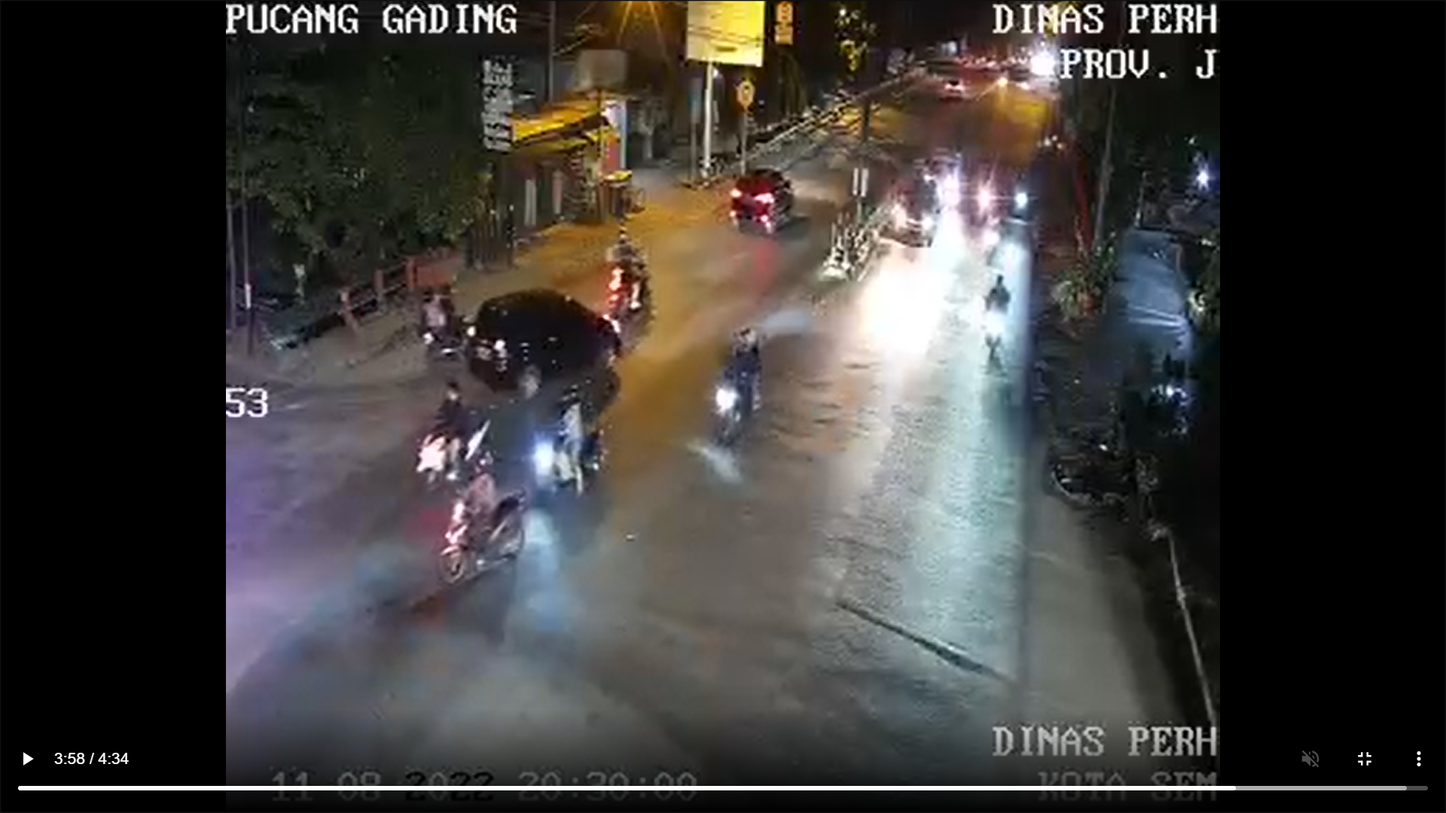without_helmet: (686, 305, 776, 455), (390, 364, 496, 476)
